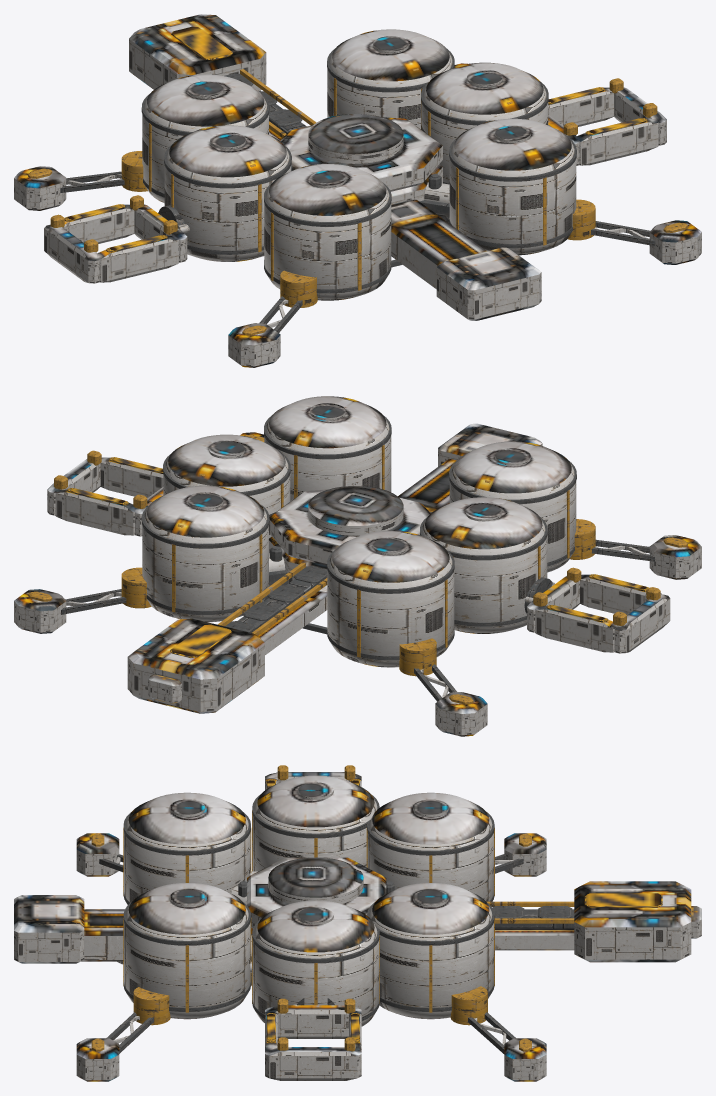
Rendered from mining-belt-station.obj.
3 views of the same model, one above another, from view 1: azimuth 30°, elevation 25°; view 2: azimuth 150°, elevation 25°; view 3: azimuth 270°, elevation 25° (orthographic).
Parts seen in each view (by area): view 1: silo.6.pressure-vessel, silo.3.pressure-vessel, silo.2.pressure-vessel, silo.4.pressure-vessel, silo.1.pressure-vessel, silo.5.pressure-vessel, gantry.hauler-loading-head, core.aft-service-head, core.aft-service-spine, core.octagonal-armored-deck, core.central-service-cap, berth.starboard.cross-rail.491 (+20 smaller); view 2: silo.4.pressure-vessel, silo.1.pressure-vessel, silo.2.pressure-vessel, silo.6.pressure-vessel, gantry.hauler-loading-head, silo.3.pressure-vessel, silo.5.pressure-vessel, core.central-service-cap, core.octagonal-armored-deck, berth.port.cross-rail.412, berth.starboard.cross-rail.412, berth.port.outer-rail (+29 smaller); view 3: silo.6.pressure-vessel, silo.4.pressure-vessel, silo.5.pressure-vessel, silo.3.pressure-vessel, silo.1.pressure-vessel, gantry.hauler-loading-head, silo.2.pressure-vessel, core.aft-service-head, core.central-service-cap, berth.starboard.inner-rail, core.octagonal-armored-deck, berth.starboard.outer-rail (+22 smaller).
Boxes of the visible parts, box(x1,y1,x2,y2) form: silo.6.pressure-vessel: box(449, 118, 576, 255); silo.3.pressure-vessel: box(264, 164, 391, 300); silo.2.pressure-vessel: box(164, 125, 291, 261); silo.4.pressure-vessel: box(327, 29, 452, 128); silo.1.pressure-vessel: box(142, 74, 268, 203); silo.5.pressure-vessel: box(421, 62, 548, 183); gantry.hauler-loading-head: box(129, 14, 266, 90); core.aft-service-head: box(436, 247, 541, 320); core.aft-service-spine: box(391, 199, 486, 289); core.octagonal-armored-deck: box(280, 117, 442, 191); core.central-service-cap: box(308, 114, 403, 163); berth.starboard.cross-rail.491: box(576, 118, 658, 165); silo.4.pressure-vessel: box(142, 485, 268, 622); silo.1.pressure-vessel: box(327, 531, 454, 667); silo.2.pressure-vessel: box(422, 497, 547, 633); silo.6.pressure-vessel: box(264, 396, 391, 500); gantry.hauler-loading-head: box(127, 618, 264, 713); silo.3.pressure-vessel: box(449, 441, 576, 572); silo.5.pressure-vessel: box(163, 434, 290, 538); core.central-service-cap: box(308, 486, 403, 535); core.octagonal-armored-deck: box(269, 489, 430, 565); berth.port.cross-rail.412: box(535, 605, 617, 652); berth.starboard.cross-rail.412: box(55, 488, 137, 535); berth.port.outer-rail: box(614, 594, 670, 653); silo.6.pressure-vessel: box(124, 883, 250, 1019); silo.4.pressure-vessel: box(369, 883, 493, 1019); silo.5.pressure-vessel: box(252, 900, 379, 1026); silo.3.pressure-vessel: box(124, 792, 250, 904); silo.1.pressure-vessel: box(367, 792, 493, 901); gantry.hauler-loading-head: box(574, 881, 691, 962); silo.2.pressure-vessel: box(252, 775, 377, 871); core.aft-service-head: box(14, 895, 84, 963); core.central-service-cap: box(268, 857, 363, 903); berth.starboard.inner-rail: box(265, 1047, 361, 1080); core.octagonal-armored-deck: box(247, 857, 386, 927); berth.starboard.outer-rail: box(265, 1005, 361, 1038).
Size of the model in its own units: 15.67 by 3.08 by 16.17.
2 materials, 2 textured.
